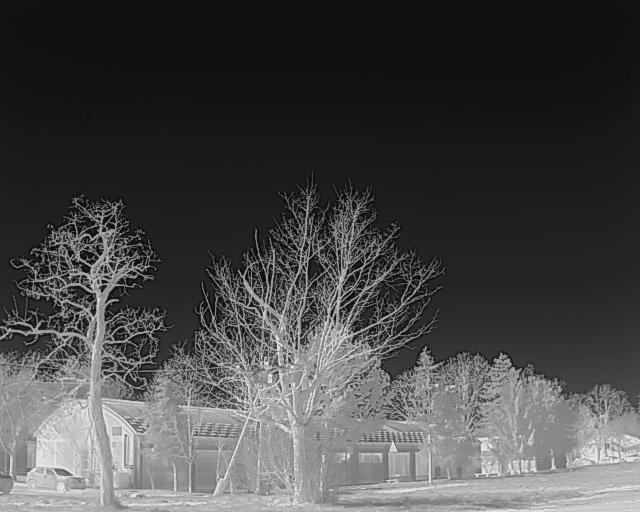drone: (223, 362, 296, 396)
